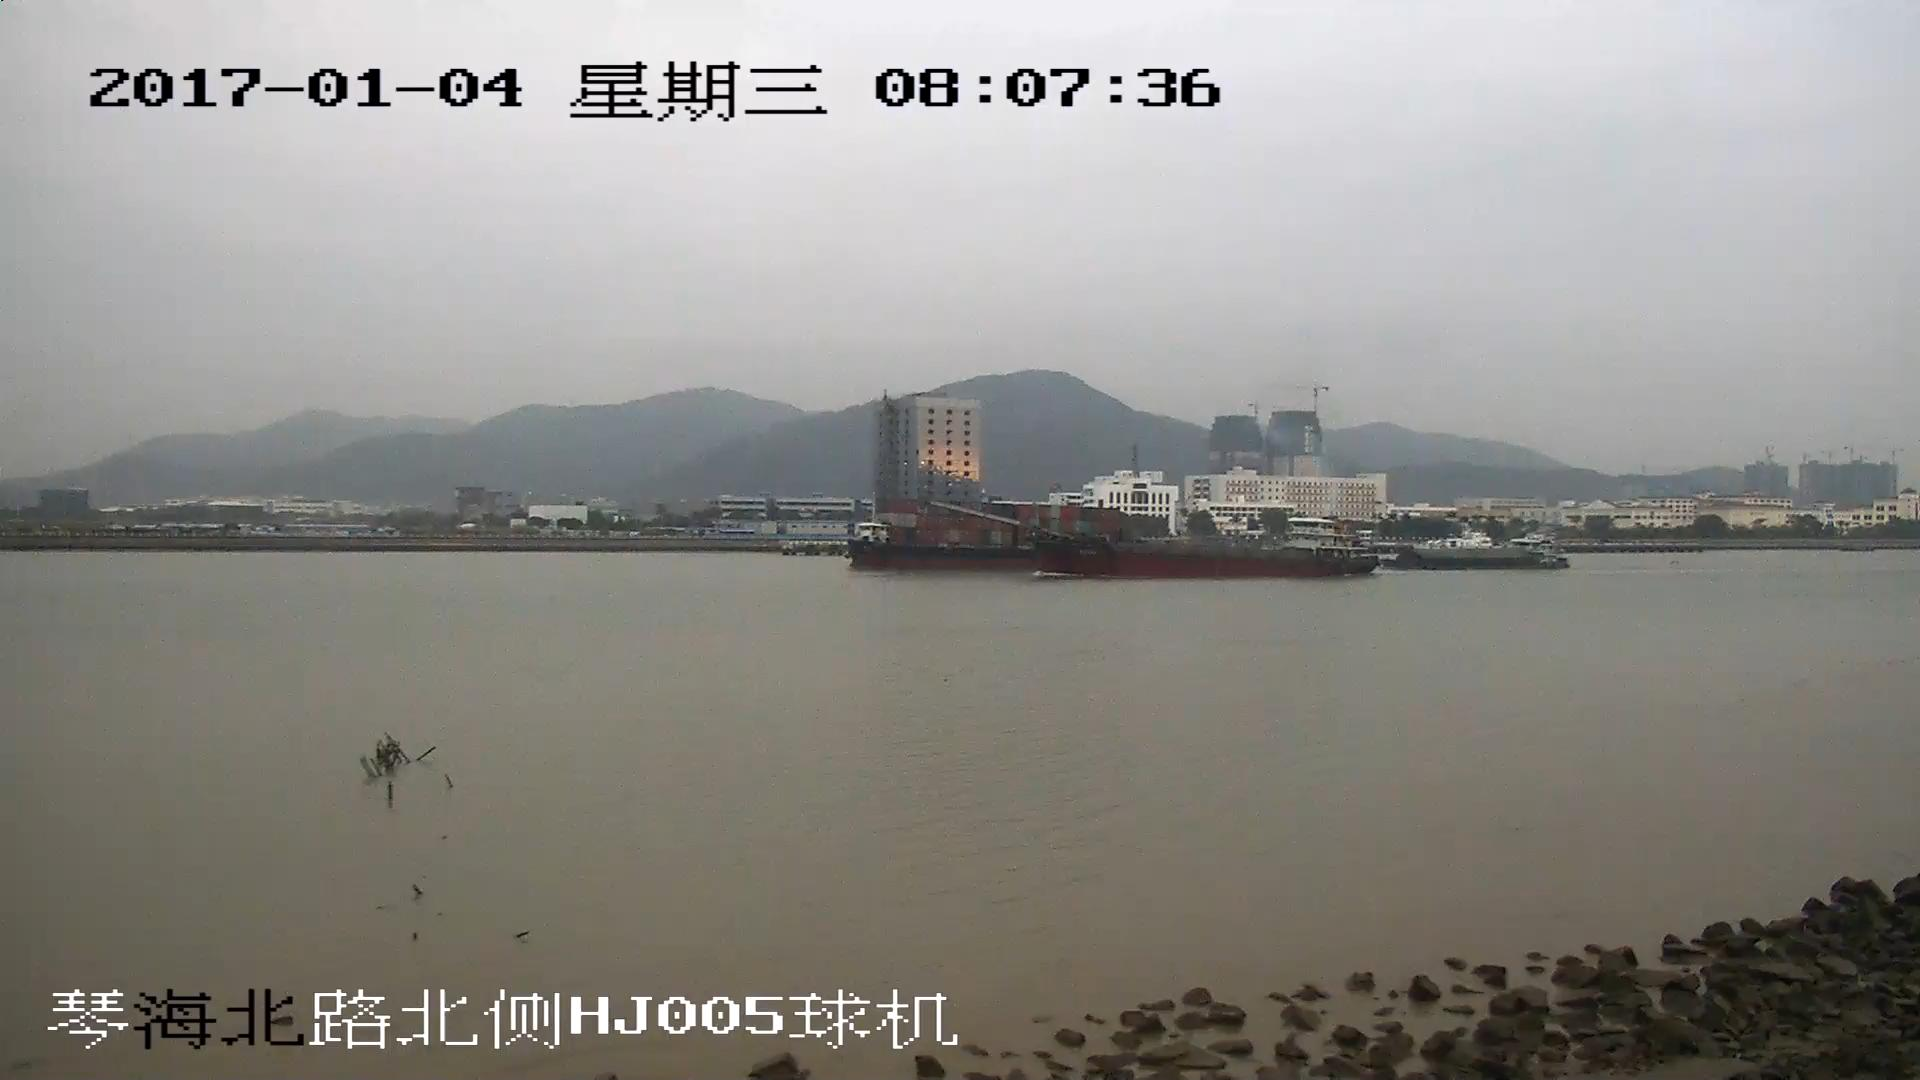bulk cargo carrier: (931, 500, 1368, 572)
container ship: (847, 501, 1026, 552)
general cargo ship: (1389, 543, 1566, 570)
